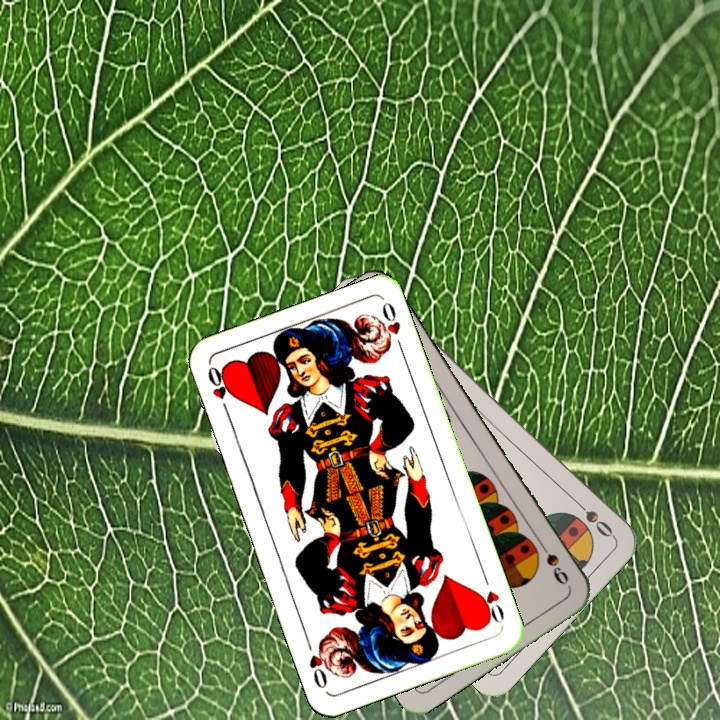HO: (474, 571, 507, 628), (203, 362, 233, 419)
S9: (533, 536, 572, 588)
SO: (569, 494, 617, 540)
